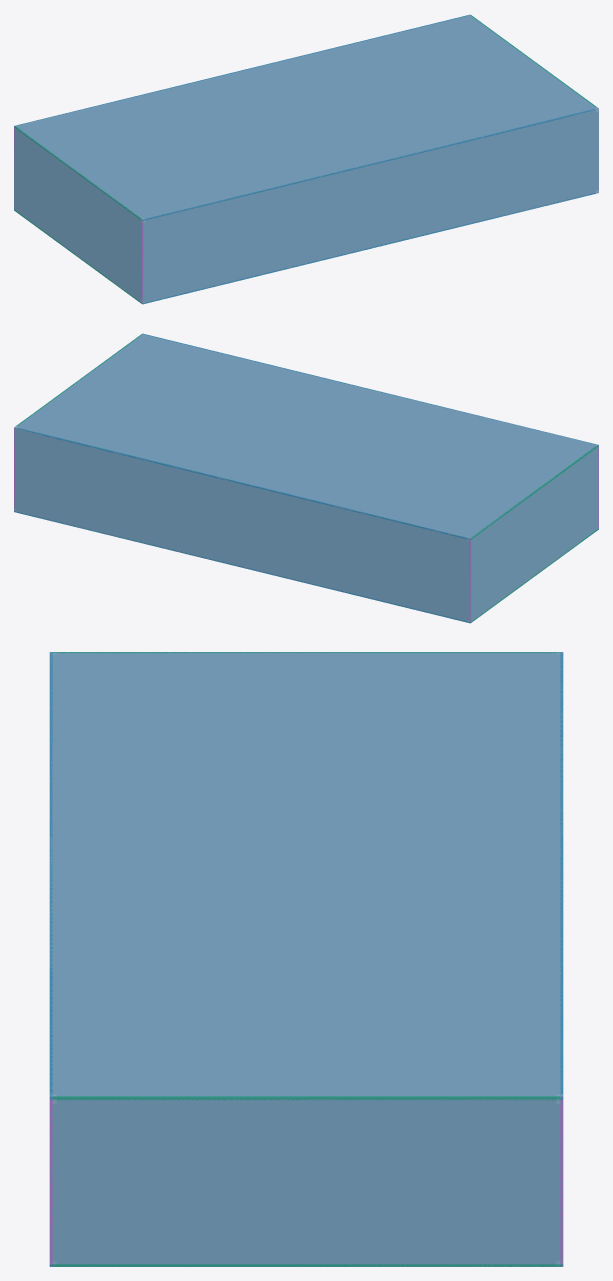
File: total-envelope-total-gpu-asrock-a750-cld-8go.glb
The picture shows the model from 3 angles, top to bottom: view 1: azimuth 30°, elevation 25°; view 2: azimuth 150°, elevation 25°; view 3: azimuth 270°, elevation 25°; orthographic projection. The views are drawn at different scales.
Parts seen in each view (by area): view 1: Published outer envelope — not a surface-accurate model, Length guide (×3); view 2: Published outer envelope — not a surface-accurate model, Length guide (×3); view 3: Published outer envelope — not a surface-accurate model, Height guide (×2), Length guide (×2).
Part boxes in pixels (<box>): Published outer envelope — not a surface-accurate model: <box>14,16,598,304</box>; Length guide (×3): <box>14,15,596,304</box>; Published outer envelope — not a surface-accurate model: <box>14,334,598,623</box>; Length guide (×3): <box>14,334,598,623</box>; Published outer envelope — not a surface-accurate model: <box>49,652,563,1266</box>; Height guide (×2): <box>50,1096,562,1266</box>; Length guide (×2): <box>49,652,563,1100</box>.
Bounding box in the file's own units: 0.271 × 0.048 × 0.132.
